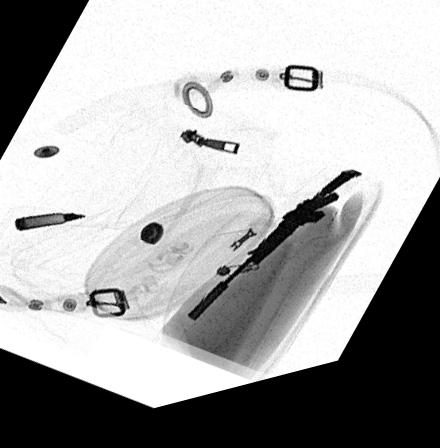Bullet: (14, 216, 84, 232)
Gun: (185, 187, 363, 333)
